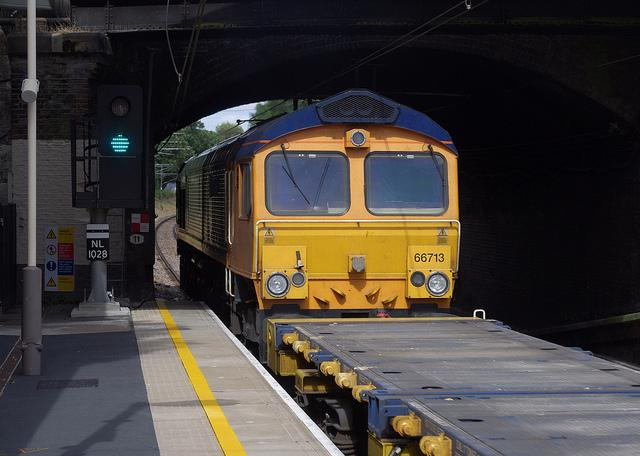Train: (174, 88, 640, 452)
